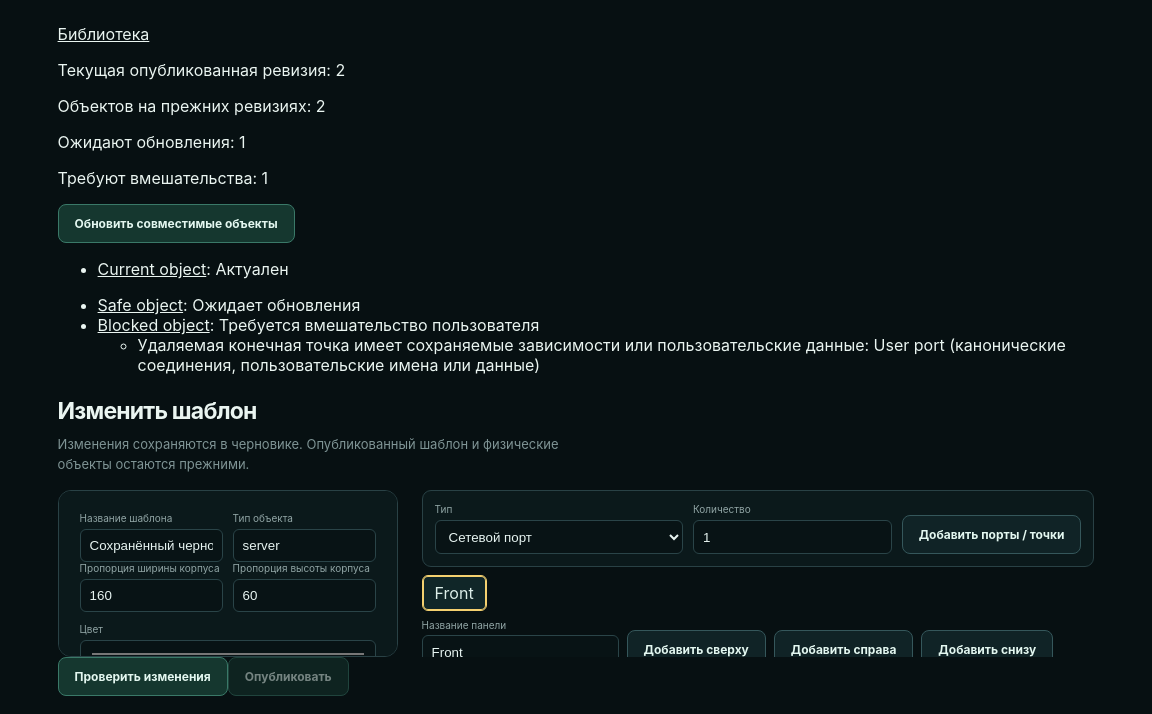
Test: persisted base template review › retains unsaved authoring edits through object updates and permits retry after request failure
Replace the text in the field showing "Сохранённый черновик" with "Keep unsaved draft". click: [151, 546]
box: [80,529,223,562]
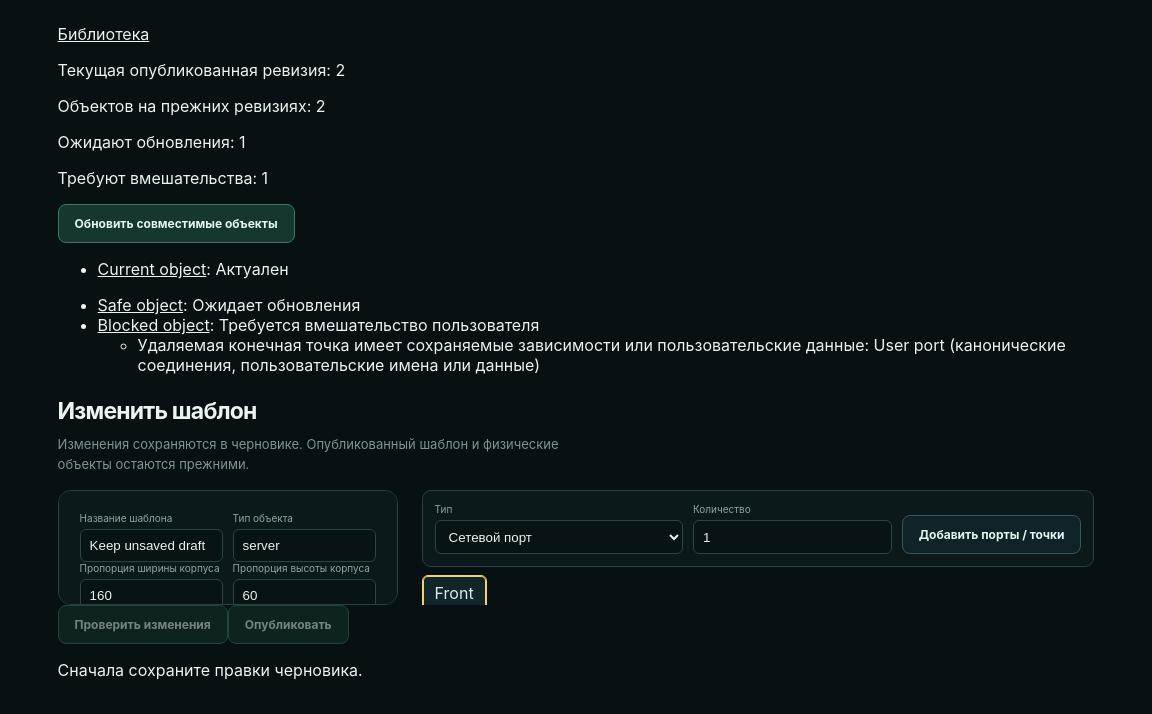
Click the button "Обновить совместимые объекты". click: [176, 224]
box: [58,204,295,243]
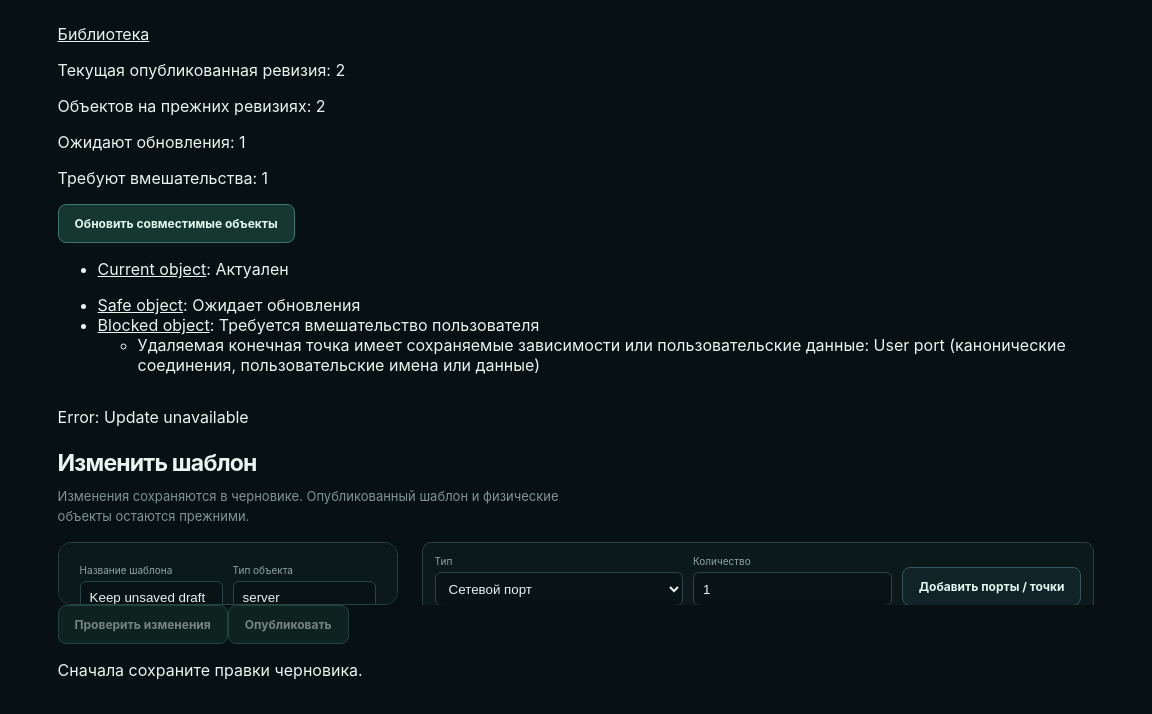
Now the message shows "Update unavailable", box [58,407,249,427]
Click the button "Обновить совместимые объекты". click: [176, 224]
box: [58,204,295,243]
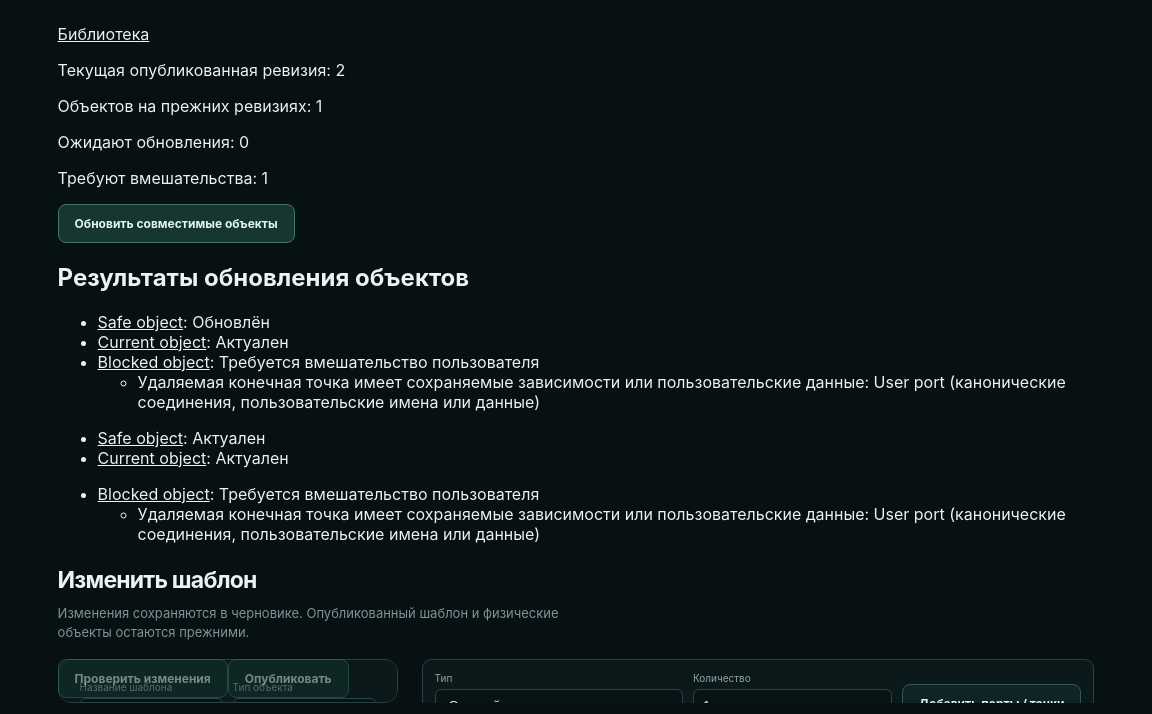
Now the button "Проверить изменения" is disabled, box [58,659,228,698]
Now the heading "Результаты обновления объектов" is shown, box [58,263,469,292]
